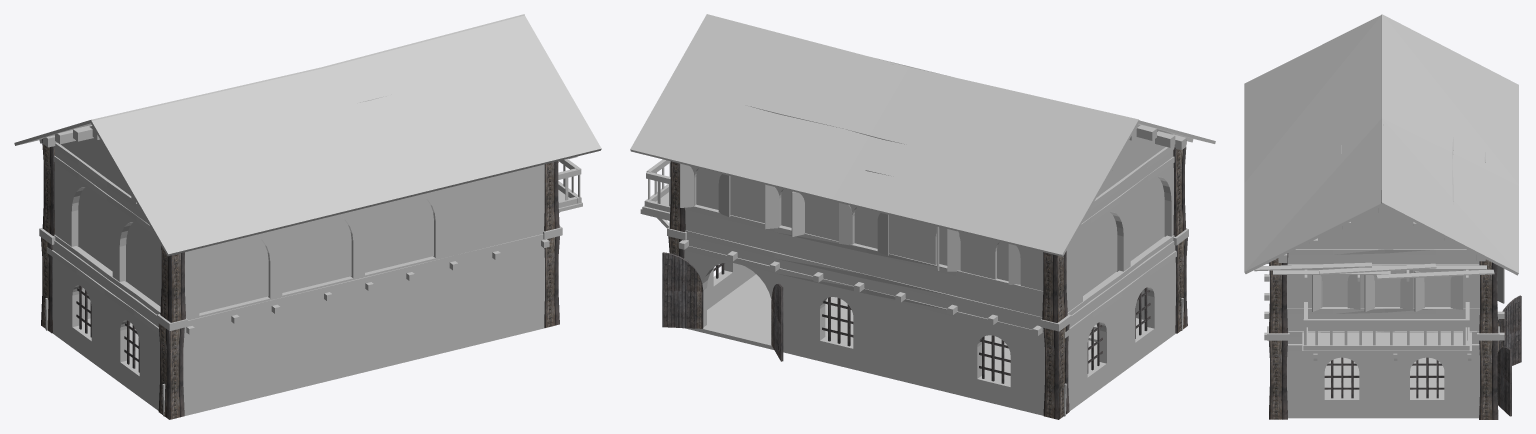
Rendered from tavern_storage_house.dae.
3 views of the same model, side by side, from view 1: azimuth 30°, elevation 25°; view 2: azimuth 150°, elevation 25°; view 3: azimuth 270°, elevation 25° (orthographic). The views are drawn at different scales.
Parts seen in each view (by area): view 1: house; view 2: house; view 3: house.
Boxes of the visible parts, x1=… form: house: x1=14, y1=14, x2=601, y2=419; house: x1=630, y1=14, x2=1215, y2=419; house: x1=1244, y1=14, x2=1521, y2=419.
Size of the model in its own units: 26.7 by 14.65 by 16.01.
